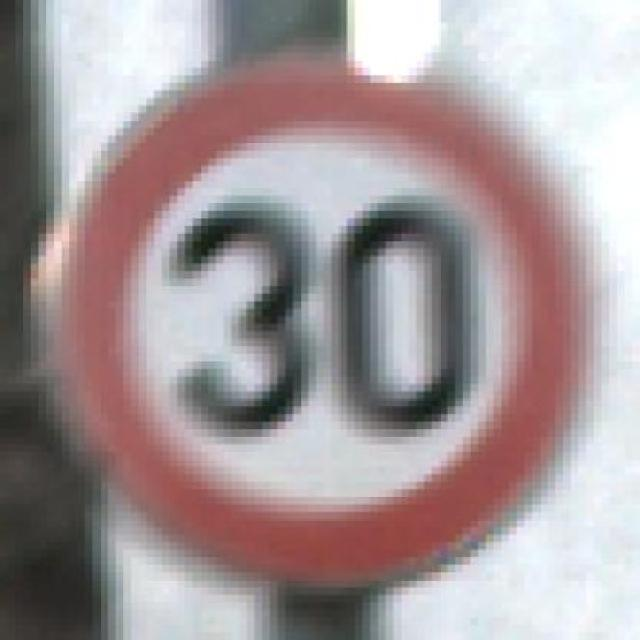Speed Limit 30 KMPh: (15, 30, 632, 602)
